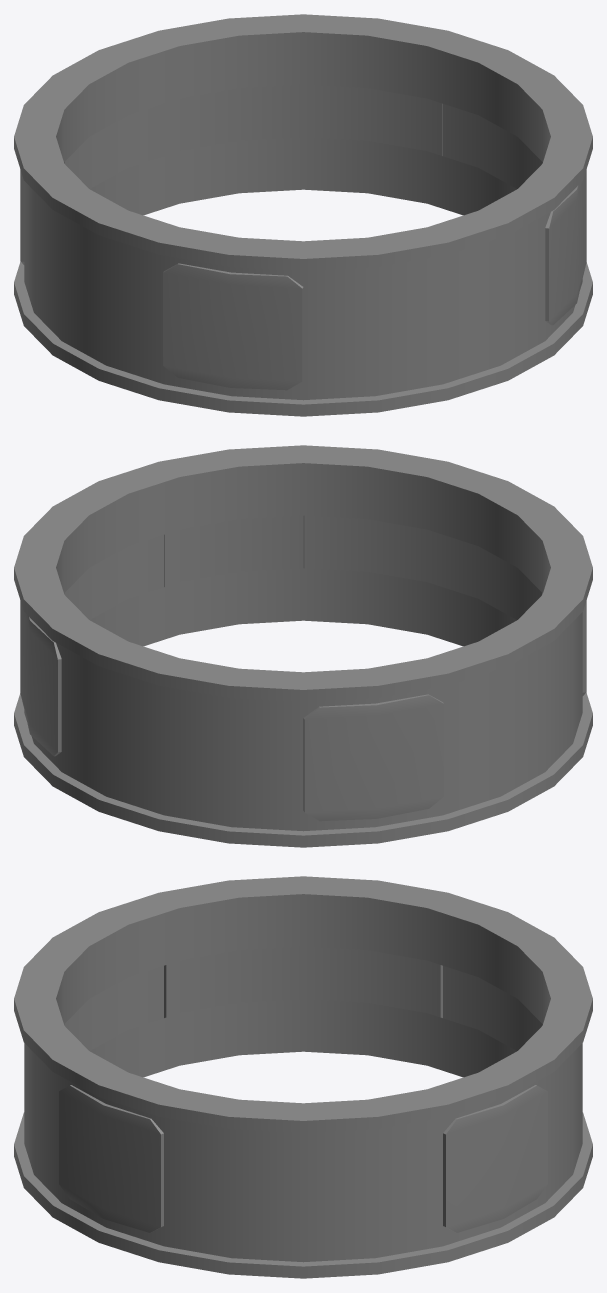
Rendered from DeltaK_ShortTank.dae.
3 views of the same model, one above another, from view 1: azimuth 30°, elevation 25°; view 2: azimuth 150°, elevation 25°; view 3: azimuth 270°, elevation 25° (orthographic).
Visible parts, largest first — view 1: DeltaK_ShortTank, DeltaK_ShortTank4, DeltaK_ShortTank1; view 2: DeltaK_ShortTank, DeltaK_ShortTank3, DeltaK_ShortTank2; view 3: DeltaK_ShortTank, DeltaK_ShortTank2, DeltaK_ShortTank1.
Part boxes in pixels (x1=…): DeltaK_ShortTank: x1=14, y1=14, x2=592, y2=416; DeltaK_ShortTank4: x1=163, y1=263, x2=303, y2=390; DeltaK_ShortTank1: x1=545, y1=170, x2=586, y2=325; DeltaK_ShortTank: x1=14, y1=445, x2=592, y2=847; DeltaK_ShortTank3: x1=303, y1=694, x2=443, y2=821; DeltaK_ShortTank2: x1=20, y1=601, x2=61, y2=756; DeltaK_ShortTank: x1=14, y1=876, x2=592, y2=1278; DeltaK_ShortTank2: x1=443, y1=1085, x2=547, y2=1232; DeltaK_ShortTank1: x1=59, y1=1085, x2=163, y2=1232.
Size of the model in its own units: 0.9986 by 0.3 by 0.9986.
